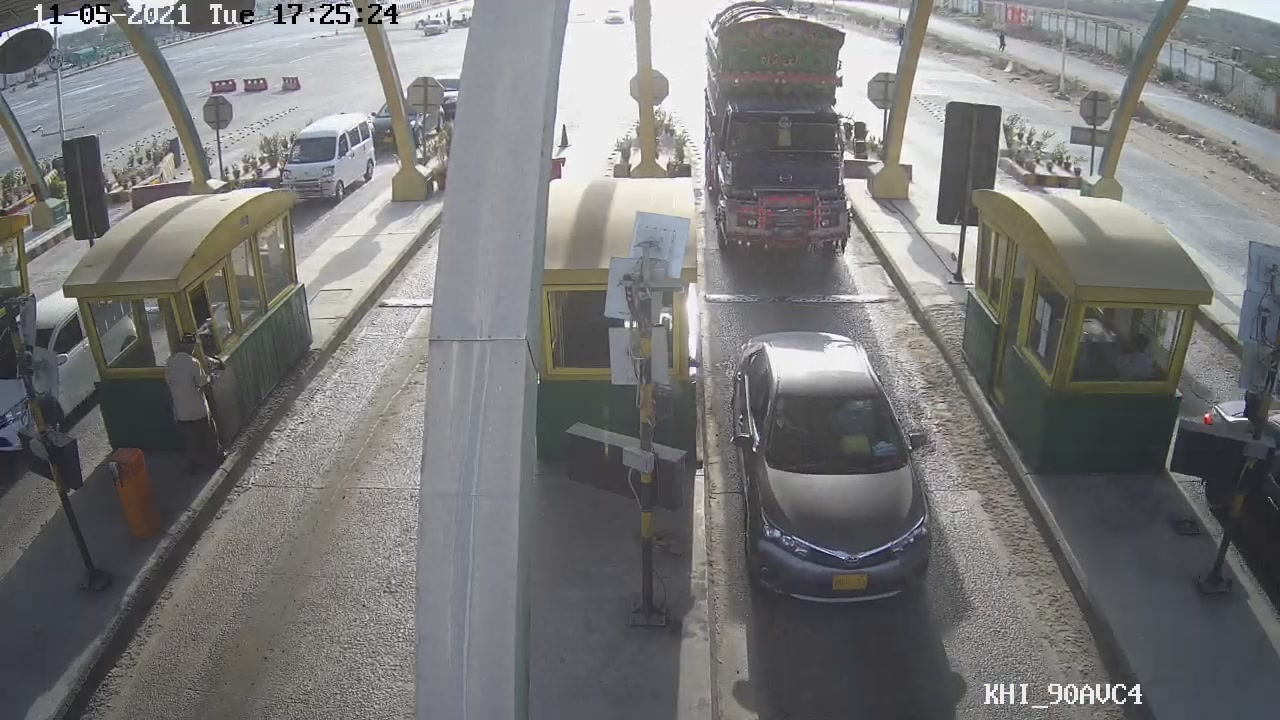F1: (725, 327, 949, 611)
F5: (697, 12, 869, 272)
